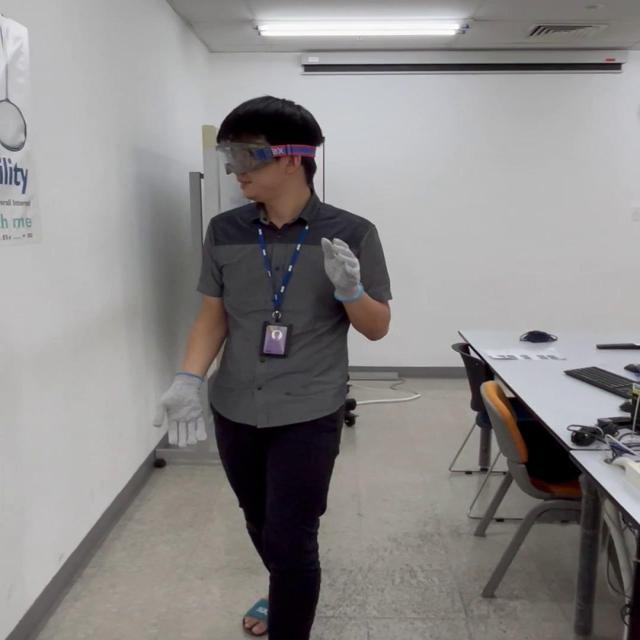gloved_hand: (154, 369, 209, 449), (308, 236, 364, 304)
